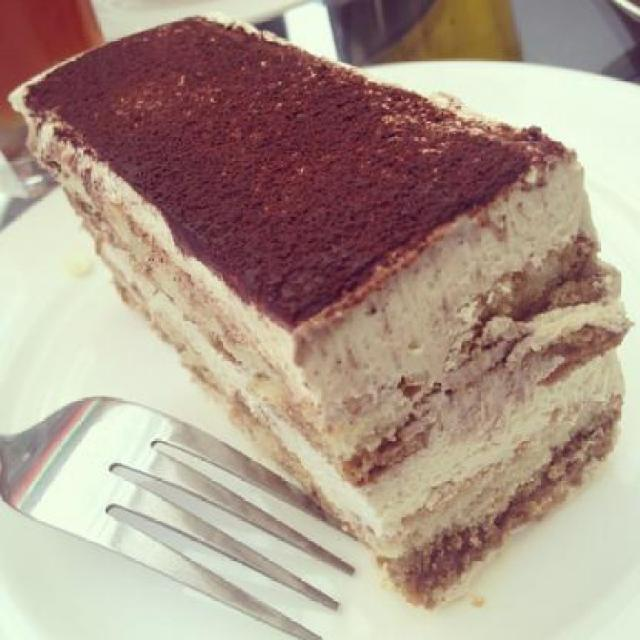Tiramisu: (26, 19, 619, 588)
